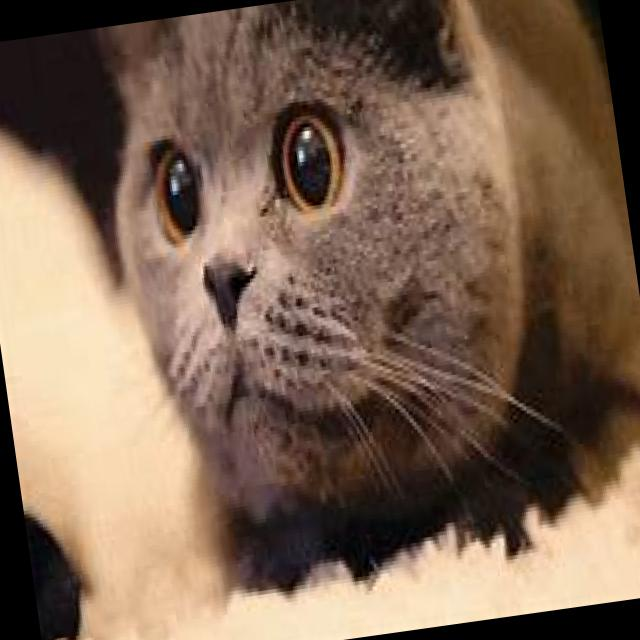animal: (91, 0, 640, 549)
